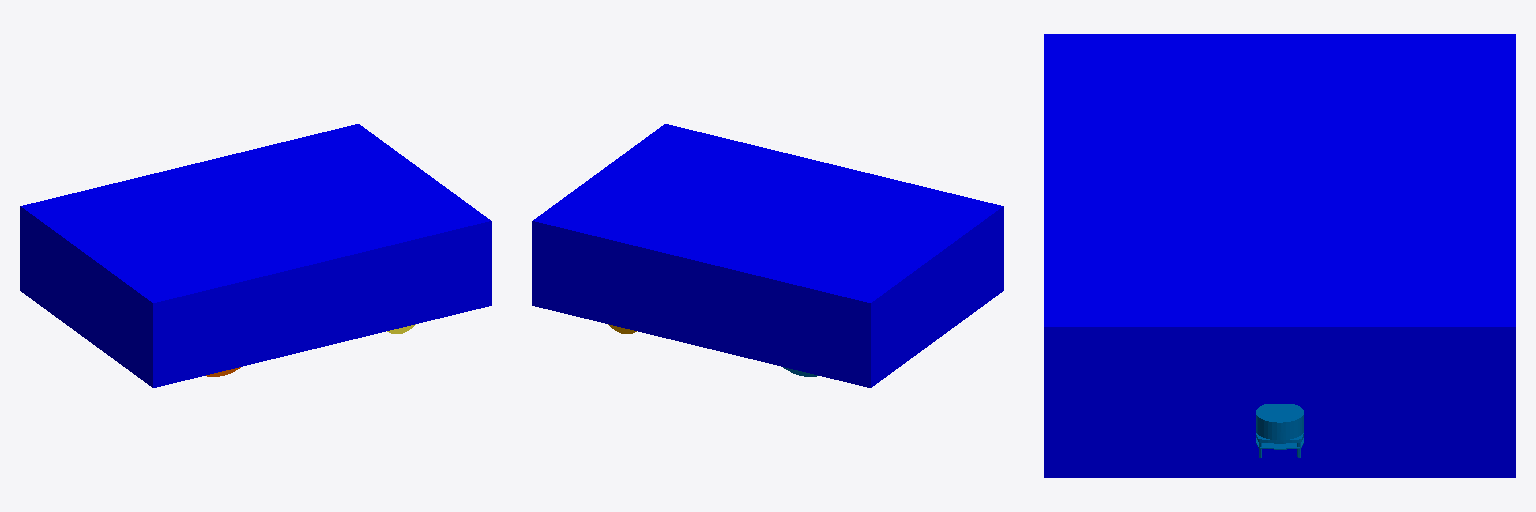
The robot description file, URDF, robot "vikings_bot":
<?xml version="1.0" ?>
<!-- =================================================================================== -->
<!-- |    This document was autogenerated by xacro from vikings_bot.xacro              | -->
<!-- |    EDITING THIS FILE BY HAND IS NOT RECOMMENDED                                 | -->
<!-- =================================================================================== -->
<robot name="vikings_bot">
  <material name="red">
    <color rgba="1 0 0 1"/>
  </material>
  <material name="green">
    <color rgba="0 1 0 1"/>
  </material>
  <material name="blue">
    <color rgba="0 0 1 1"/>
  </material>
  <!-- Include Gazebo related files -->
  <!-- ROBOT -->
  <!-- Dummy link -->
  <link name="dummy_link">
    <inertial>
      <mass value="0.05"/>
      <origin rpy="0 0 0" xyz=" 0 0 0"/>
      <inertia ixx="0" ixy="0" ixz="0" iyx="0" iyy="0" iyz="0" izx="0" izy="0" izz="0"/>
    </inertial>
  </link>
  <!-- Chassis link-->
  <link name="chassis_link">
    <visual>
      <geometry>
        <box size="1.0 0.68 0.24"/>
      </geometry>
      <material name="blue"/>
    </visual>
    <inertial>
      <mass value="60"/>
      <origin rpy="0 0 0" xyz=" 0 0 0"/>
      <inertia ixx="2.6245" ixy="0" ixz="0" iyx="0" iyy="5.3125" iyz="0" izx="0" izy="0" izz="7.3120"/>
    </inertial>
    <collision>
      <geometry>
        <box size="1.0 0.68 0.24"/>
      </geometry>
    </collision>
  </link>
  <gazebo reference="chassis_link">
    <material>Gazebo/Blue</material>
    <!-- friction -->
    <mu1>100</mu1>
    <mu2>100</mu2>
    <!-- stiffness -->
    <kp>100000000000000000</kp>
    <kd>100000000000000000</kd>
  </gazebo>
  <!-- Chassis joint-->
  <joint name="chassis_joint" type="fixed">
    <parent link="dummy_link"/>
    <child link="chassis_link"/>
    <origin rpy="0 0 0" xyz="0 0 -0.155"/>
  </joint>
  <!-- Footprint link-->
  <link name="base_footprint_link"/>
  <!-- Footprint joint -->
  <joint name="base_footprint_joint" type="fixed">
    <parent link="chassis_link"/>
    <child link="base_footprint_link"/>
    <origin rpy="0 0 0" xyz="0 0 -0.155"/>
  </joint>
  <gazebo reference="base_footprint_joint">
    <preserveFixedJoint>true</preserveFixedJoint>
  </gazebo>
  <!-- Base link-->
  <link name="base_link">
    <inertial>
      <mass value="0.05"/>
      <origin rpy="0 0 0" xyz=" 0 0 0"/>
      <inertia ixx="0" ixy="0" ixz="0" iyx="0" iyy="0" iyz="0" izx="0" izy="0" izz="0"/>
    </inertial>
  </link>
  <!-- Base link joint -->
  <joint name="base_link_joint" type="fixed">
    <parent link="chassis_link"/>
    <child link="base_link"/>
    <origin rpy="0 0 0" xyz="-0.27 0 -0.03"/>
  </joint>
  <link name="left_drive_wheel_link">
    <visual>
      <origin rpy="1.57 0 0" xyz="0 0 0"/>
      <geometry>
        <cylinder length="0.05" radius="0.125"/>
      </geometry>
    </visual>
    <inertial>
      <mass value="5"/>
      <origin rpy="0 0 0" xyz=" 0 0 0"/>
      <inertia ixx="0.0206" ixy="0" ixz="0" iyx="0" iyy="0.0390" iyz="0" izx="0" izy="0" izz="0.0206"/>
    </inertial>
    <collision>
      <origin rpy="1.57 0 0" xyz="0 0 0"/>
      <geometry>
        <cylinder length="0.05" radius="0.125"/>
      </geometry>
    </collision>
  </link>
  <gazebo reference="left_drive_wheel_link">
    <material>Gazebo/Red</material>
    <!-- friction -->
    <mu1>100</mu1>
    <mu2>100</mu2>
    <!-- stiffness -->
    <kp>1000000000000</kp>
    <kd>1000000000000</kd>
  </gazebo>
  <joint name="left_drive_wheel_joint" type="continuous">
    <parent link="base_link"/>
    <child link="left_drive_wheel_link"/>
    <!-- <origin xyz="0 ${y_reflect * (wheel_width/2 + wheel_yoff)} 0" rpy="0 0 0"/> -->
    <origin rpy="0 0 0" xyz="0 0.275 0"/>
    <axis xyz="0 1 0"/>
    <limit effort="1000" velocity="1000"/>
    <joint_properties damping="1.0" friction="1.0"/>
  </joint>
  <link name="right_drive_wheel_link">
    <visual>
      <origin rpy="1.57 0 0" xyz="0 0 0"/>
      <geometry>
        <cylinder length="0.05" radius="0.125"/>
      </geometry>
    </visual>
    <inertial>
      <mass value="5"/>
      <origin rpy="0 0 0" xyz=" 0 0 0"/>
      <inertia ixx="0.0206" ixy="0" ixz="0" iyx="0" iyy="0.0390" iyz="0" izx="0" izy="0" izz="0.0206"/>
    </inertial>
    <collision>
      <origin rpy="1.57 0 0" xyz="0 0 0"/>
      <geometry>
        <cylinder length="0.05" radius="0.125"/>
      </geometry>
    </collision>
  </link>
  <gazebo reference="right_drive_wheel_link">
    <material>Gazebo/Red</material>
    <!-- friction -->
    <mu1>100</mu1>
    <mu2>100</mu2>
    <!-- stiffness -->
    <kp>1000000000000</kp>
    <kd>1000000000000</kd>
  </gazebo>
  <joint name="right_drive_wheel_joint" type="continuous">
    <parent link="base_link"/>
    <child link="right_drive_wheel_link"/>
    <!-- <origin xyz="0 ${y_reflect * (wheel_width/2 + wheel_yoff)} 0" rpy="0 0 0"/> -->
    <origin rpy="0 0 0" xyz="0 -0.275 0"/>
    <axis xyz="0 1 0"/>
    <limit effort="1000" velocity="1000"/>
    <joint_properties damping="1.0" friction="1.0"/>
  </joint>
  <link name="left_castor_wheel_yaw_link">
    <visual>
      <origin rpy="0 0 0" xyz="0 0 0"/>
      <geometry>
        <cylinder length="0.01" radius="0.05"/>
      </geometry>
    </visual>
    <inertial>
      <mass value="0.7"/>
      <origin rpy="0 0 0" xyz=" 0 0 0"/>
      <inertia ixx="0.0020" ixy="0" ixz="0" iyx="0" iyy="0.0020" iyz="0" izx="0" izy="0" izz="0.0025"/>
    </inertial>
    <collision>
      <origin rpy="0 0 0" xyz="0 0 0"/>
      <geometry>
        <cylinder length="0.01" radius="0.05"/>
      </geometry>
    </collision>
  </link>
  <gazebo reference="left_castor_wheel_yaw_link">
    <material>Gazebo/Black</material>
    <mu1>100</mu1>
    <mu2>100</mu2>
    <kp>100000000000000000</kp>
    <kd>100000000000000000</kd>
  </gazebo>
  <joint name="left_castor_wheel_yaw_joint" type="continuous">
    <parent link="chassis_link"/>
    <child link="left_castor_wheel_yaw_link"/>
    <origin rpy="0 0 0" xyz="0.31 0.2725 0"/>
    <axis xyz="0 0 1"/>
    <limit effort="100" velocity="100"/>
    <joint_properties damping="1.0" friction="1.0"/>
  </joint>
  <link name="left_castor_wheel_base_link">
    <visual>
      <origin rpy="0 0.785 0" xyz="0 0 0"/>
      <geometry>
        <box size="0.03 0.03 0.07428571428571429"/>
      </geometry>
    </visual>
    <inertial>
      <mass value="0.7"/>
      <origin rpy="0 0 0" xyz=" 0 0 0"/>
      <inertia ixx="0.0020" ixy="0" ixz="0" iyx="0" iyy="0.0020" iyz="0" izx="0" izy="0" izz="0.0020"/>
    </inertial>
    <collision>
      <origin rpy="0 0.785 0" xyz="0 0 0"/>
      <geometry>
        <box size="0.03 0.03 0.07428571428571429"/>
      </geometry>
    </collision>
  </link>
  <gazebo reference="left_castor_wheel_base_link">
    <material>Gazebo/Red</material>
    <mu1>100</mu1>
    <mu2>100</mu2>
    <kp>100000000000000000</kp>
    <kd>100000000000000000</kd>
  </gazebo>
  <joint name="left_castor_wheel_base_joint" type="fixed">
    <parent link="left_castor_wheel_yaw_link"/>
    <child link="left_castor_wheel_base_link"/>
    <origin rpy="0 0 0" xyz="-0.026                          0.0                          -0.0495"/>
  </joint>
  <link name="left_castor_wheel_pitch_link">
    <visual>
      <origin rpy="1.57 0 0" xyz="0 0 0"/>
      <geometry>
        <cylinder length="0.05" radius="0.0612"/>
      </geometry>
    </visual>
    <inertial>
      <mass value="1.0"/>
      <origin rpy="0 0 0" xyz=" 0 0 0"/>
      <inertia ixx="0.0020" ixy="0" ixz="0" iyx="0" iyy="0.0025" iyz="0" izx="0" izy="0" izz="0.0020"/>
    </inertial>
    <collision>
      <origin rpy="1.57 0 0" xyz="0 0 0"/>
      <geometry>
        <cylinder length="0.05" radius="0.0612"/>
      </geometry>
    </collision>
  </link>
  <gazebo reference="left_castor_wheel_pitch_link">
    <material>Gazebo/Black</material>
    <mu1>50</mu1>
    <mu2>50</mu2>
    <kp>1000000000000</kp>
    <kd>1000000000000</kd>
  </gazebo>
  <joint name="left_castor_wheel_pitch_joint" type="continuous">
    <parent link="left_castor_wheel_base_link"/>
    <child link="left_castor_wheel_pitch_link"/>
    <origin rpy="0 0 0" xyz="-0.026                          0.0                          -0.0495"/>
    <axis xyz="0 1 0"/>
    <limit effort="1000" velocity="1000"/>
    <joint_properties damping="1.0" friction="1.0"/>
  </joint>
  <link name="right_castor_wheel_yaw_link">
    <visual>
      <origin rpy="0 0 0" xyz="0 0 0"/>
      <geometry>
        <cylinder length="0.01" radius="0.05"/>
      </geometry>
    </visual>
    <inertial>
      <mass value="0.7"/>
      <origin rpy="0 0 0" xyz=" 0 0 0"/>
      <inertia ixx="0.0020" ixy="0" ixz="0" iyx="0" iyy="0.0020" iyz="0" izx="0" izy="0" izz="0.0025"/>
    </inertial>
    <collision>
      <origin rpy="0 0 0" xyz="0 0 0"/>
      <geometry>
        <cylinder length="0.01" radius="0.05"/>
      </geometry>
    </collision>
  </link>
  <gazebo reference="right_castor_wheel_yaw_link">
    <material>Gazebo/Black</material>
    <mu1>100</mu1>
    <mu2>100</mu2>
    <kp>100000000000000000</kp>
    <kd>100000000000000000</kd>
  </gazebo>
  <joint name="right_castor_wheel_yaw_joint" type="continuous">
    <parent link="chassis_link"/>
    <child link="right_castor_wheel_yaw_link"/>
    <origin rpy="0 0 0" xyz="0.31 -0.2725 0"/>
    <axis xyz="0 0 1"/>
    <limit effort="100" velocity="100"/>
    <joint_properties damping="1.0" friction="1.0"/>
  </joint>
  <link name="right_castor_wheel_base_link">
    <visual>
      <origin rpy="0 0.785 0" xyz="0 0 0"/>
      <geometry>
        <box size="0.03 0.03 0.07428571428571429"/>
      </geometry>
    </visual>
    <inertial>
      <mass value="0.7"/>
      <origin rpy="0 0 0" xyz=" 0 0 0"/>
      <inertia ixx="0.0020" ixy="0" ixz="0" iyx="0" iyy="0.0020" iyz="0" izx="0" izy="0" izz="0.0020"/>
    </inertial>
    <collision>
      <origin rpy="0 0.785 0" xyz="0 0 0"/>
      <geometry>
        <box size="0.03 0.03 0.07428571428571429"/>
      </geometry>
    </collision>
  </link>
  <gazebo reference="right_castor_wheel_base_link">
    <material>Gazebo/Red</material>
    <mu1>100</mu1>
    <mu2>100</mu2>
    <kp>100000000000000000</kp>
    <kd>100000000000000000</kd>
  </gazebo>
  <joint name="right_castor_wheel_base_joint" type="fixed">
    <parent link="right_castor_wheel_yaw_link"/>
    <child link="right_castor_wheel_base_link"/>
    <origin rpy="0 0 0" xyz="-0.026                          0.0                          -0.0495"/>
  </joint>
  <link name="right_castor_wheel_pitch_link">
    <visual>
      <origin rpy="1.57 0 0" xyz="0 0 0"/>
      <geometry>
        <cylinder length="0.05" radius="0.0612"/>
      </geometry>
    </visual>
    <inertial>
      <mass value="1.0"/>
      <origin rpy="0 0 0" xyz=" 0 0 0"/>
      <inertia ixx="0.0020" ixy="0" ixz="0" iyx="0" iyy="0.0025" iyz="0" izx="0" izy="0" izz="0.0020"/>
    </inertial>
    <collision>
      <origin rpy="1.57 0 0" xyz="0 0 0"/>
      <geometry>
        <cylinder length="0.05" radius="0.0612"/>
      </geometry>
    </collision>
  </link>
  <gazebo reference="right_castor_wheel_pitch_link">
    <material>Gazebo/Black</material>
    <mu1>50</mu1>
    <mu2>50</mu2>
    <kp>1000000000000</kp>
    <kd>1000000000000</kd>
  </gazebo>
  <joint name="right_castor_wheel_pitch_joint" type="continuous">
    <parent link="right_castor_wheel_base_link"/>
    <child link="right_castor_wheel_pitch_link"/>
    <origin rpy="0 0 0" xyz="-0.026                          0.0                          -0.0495"/>
    <axis xyz="0 1 0"/>
    <limit effort="1000" velocity="1000"/>
    <joint_properties damping="1.0" friction="1.0"/>
  </joint>
  <!-- Lidar -->
  <link name="lidar_link">
    <visual>
      <origin rpy="0 0 3.14" xyz="0 0 0"/>
      <geometry>
        <mesh filename="package://vikings_bot_description/meshes/sensors/rplidar.dae" scale="1 1 1"/>
      </geometry>
    </visual>
    <inertial>
      <mass value="0.2"/>
      <origin rpy="0 0 0" xyz=" 0 0 0"/>
      <inertia ixx="1e-7" ixy="0" ixz="0" iyx="0" iyy="1e-7" iyz="0" izx="0" izy="0" izz="1e-7"/>
    </inertial>
    <collision>
      <origin rpy="0 0 0" xyz="0 0 0.03"/>
      <geometry>
        <box size="0.08 0.08 0.08"/>
      </geometry>
    </collision>
  </link>
  <gazebo reference="lidar_link">
    <material>Gazebo/Grey</material>
    <!-- friction -->
    <mu1>100</mu1>
    <mu2>100</mu2>
    <!-- stiffness -->
    <kp>100000000000000000</kp>
    <kd>100000000000000000</kd>
  </gazebo>
  <joint name="lidar_link_joint" type="fixed">
    <parent link="chassis_link"/>
    <child link="lidar_link"/>
    <origin rpy="0 0 0" xyz="0.53 0.0 -0.06"/>
  </joint>
  <!-- Camera -->
  <link name="camera_link">
    <visual>
      <origin rpy="0 0 3.14" xyz="0 0 0"/>
      <geometry>
        <mesh filename="package://vikings_bot_description/meshes/sensors/realsense.dae" scale="1 1 1"/>
      </geometry>
    </visual>
    <inertial>
      <mass value="0.2"/>
      <origin rpy="0 0 0" xyz=" 0 0 0"/>
      <inertia ixx="1e-7" ixy="0" ixz="0" iyx="0" iyy="1e-7" iyz="0" izx="0" izy="0" izz="1e-7"/>
    </inertial>
    <collision>
      <geometry>
        <box size="0.08 0.1 0.03"/>
      </geometry>
    </collision>
  </link>
  <gazebo reference="camera_link">
    <material>Gazebo/Grey</material>
    <!-- friction -->
    <mu1>100</mu1>
    <mu2>100</mu2>
    <!-- stiffness -->
    <kp>100000000000000000</kp>
    <kd>100000000000000000</kd>
  </gazebo>
  <joint name="camera_link_joint" type="fixed">
    <parent link="chassis_link"/>
    <child link="camera_link"/>
    <origin rpy="0 0 0" xyz="0.5 0.0 0.06"/>
  </joint>
</robot>

--- What the picture shows (computed from the rendered views, not written in the file) ---
Views: 3 orthographic renders of the robot side by side, from view 1: azimuth 30°, elevation 25°; view 2: azimuth 150°, elevation 25°; view 3: azimuth 270°, elevation 25°.
Robot: vikings_bot — 14 links, 13 joints (6 continuous, 7 fixed); root link dummy_link; default pose: every joint at zero.
Visible links, largest first — view 1: chassis_link; view 2: chassis_link; view 3: chassis_link, lidar_link.
Boxes of the visible links, x1,y1,x2,y2 form: chassis_link: [20, 124, 491, 387]; chassis_link: [532, 124, 1003, 387]; chassis_link: [1044, 34, 1515, 477]; lidar_link: [1256, 404, 1303, 457].
Bounding box of the posed robot: 1.06 × 0.68 × 0.2802 m (x, y, z).
Meshes: 2 distinct files referenced, 1 mesh visuals loaded (1 Collada DAE); not drawn: 1 (reference not matched to a file when rendering).